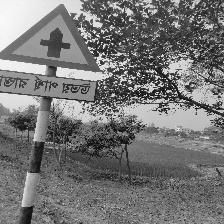Crossroad: (0, 0, 110, 114)
